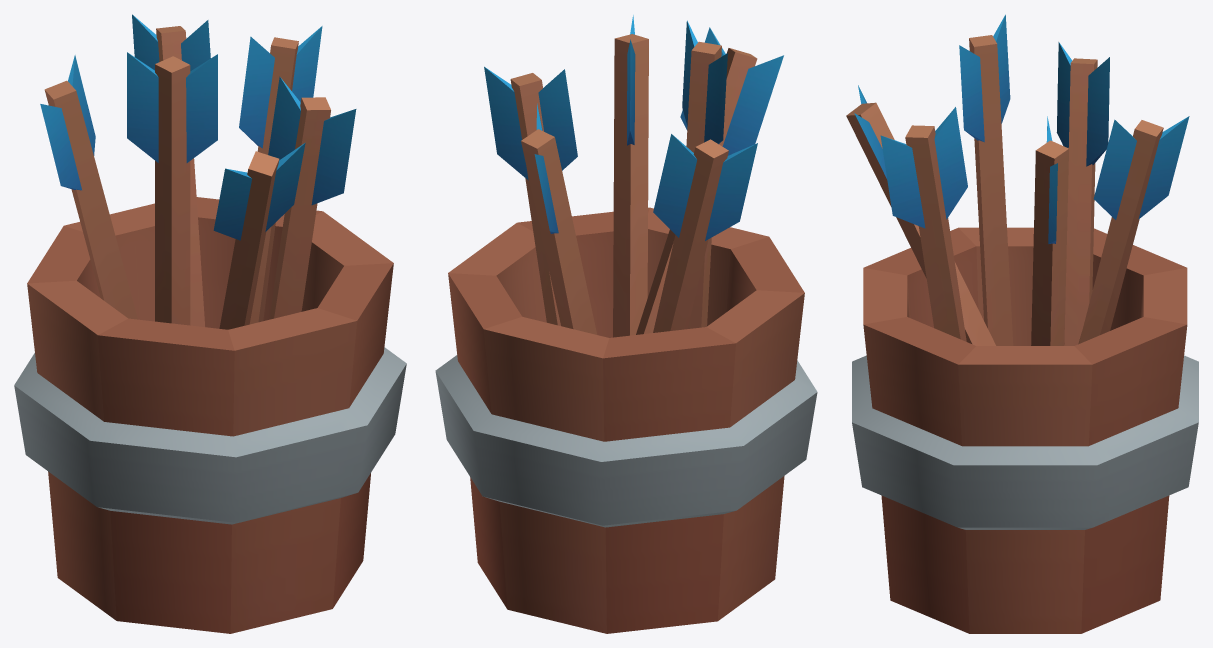
The model's file is kaykit-medieval-hexagon-pack-bucket-arrows.glb.
The picture shows the model from 3 angles, left to right: view 1: azimuth 30°, elevation 25°; view 2: azimuth 150°, elevation 25°; view 3: azimuth 270°, elevation 25°; orthographic projection. The views are drawn at different scales.
Visible parts, largest first — view 1: bucket_arrows; view 2: bucket_arrows; view 3: bucket_arrows.
Part boxes in pixels (x1,y1,x2,y2): bucket_arrows: (14, 14, 406, 633); bucket_arrows: (435, 15, 817, 633); bucket_arrows: (846, 14, 1198, 633).
Bounding box in the file's own units: 0.14 × 0.2313 × 0.1423.
1 material, 1 textured.
